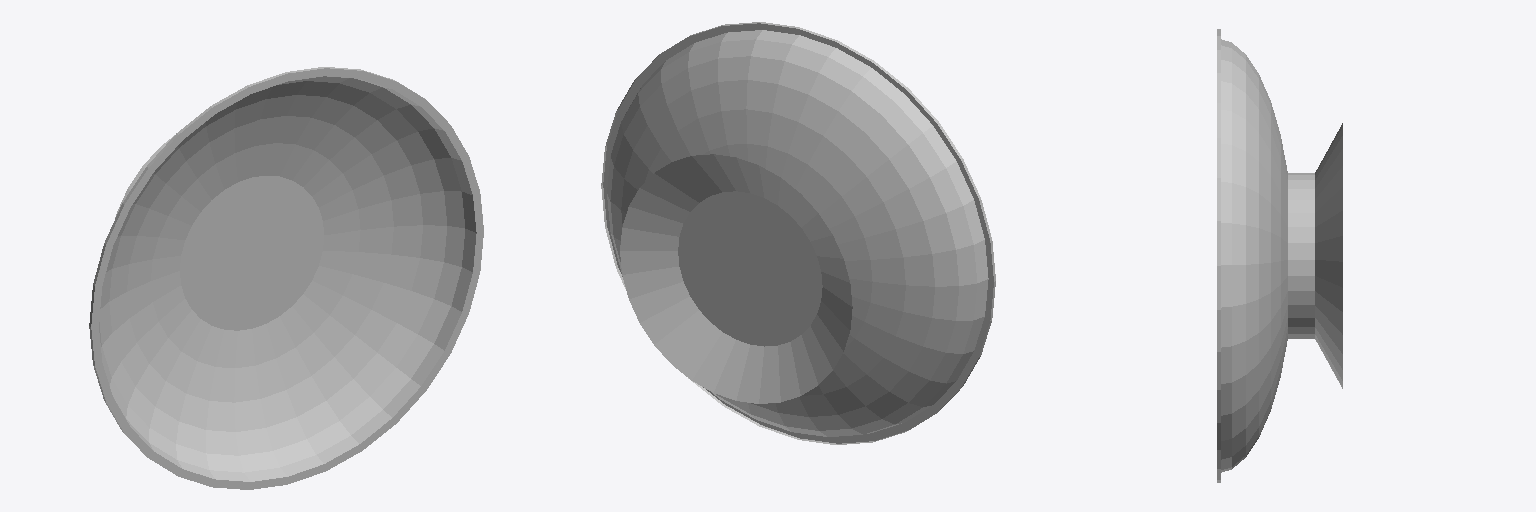
File: Cuenc_back.obj
3 renders of one model, left to right at view 1: azimuth 30°, elevation 25°; view 2: azimuth 150°, elevation 25°; view 3: azimuth 270°, elevation 25°, orthographic.
Parts seen in each view (by area): view 1: Cuenc_back_Sphere.001; view 2: Cuenc_back_Sphere.001; view 3: Cuenc_back_Sphere.001.
Boxes of the visible parts, <box> form: Cuenc_back_Sphere.001: <box>89,67,483,489</box>; Cuenc_back_Sphere.001: <box>601,22,995,444</box>; Cuenc_back_Sphere.001: <box>1217,29,1342,482</box>.
Bounding box in the file's own units: 1.15 × 1.15 × 0.3211.